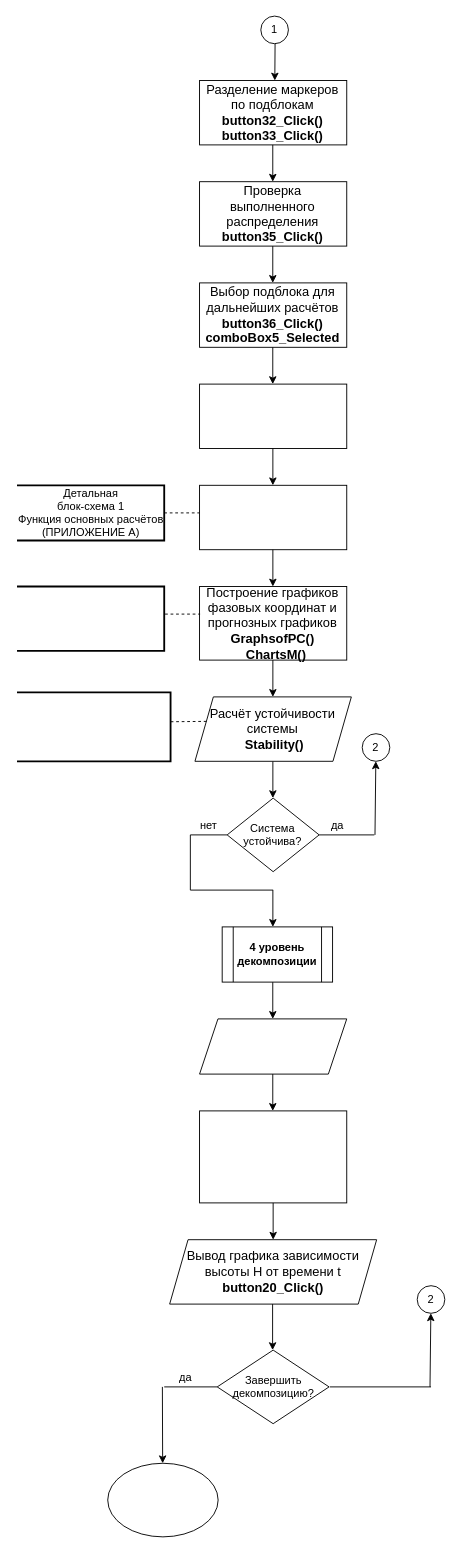
Some shapes in this 461 by 1553 pixel diagram are drawn without their labels. Each missing label, with the box of its shape:
Выбор маркеров для построения их графиков button43_Click() button44_Click(): (199, 1110, 347, 1203)
Вывод доступных маркеров button18_Click(): (199, 1018, 347, 1074)
Детальная блок-схема 2,3 Функция построения графиков 1,2 (ПРИЛОЖЕНИЕ А): (16, 585, 165, 651)
Детальная блок-схема 4 Функция расчёта устойчивости системы (ПРИЛОЖЕНИЕ А): (16, 691, 171, 762)
Конец: (107, 1462, 218, 1537)
Показ исходных данных, верхней и нижней границы. button37_Click(): (199, 383, 347, 448)
Расчёт всех фазовых координат и их прогнозных значений DataCalculations(): (199, 484, 347, 550)
